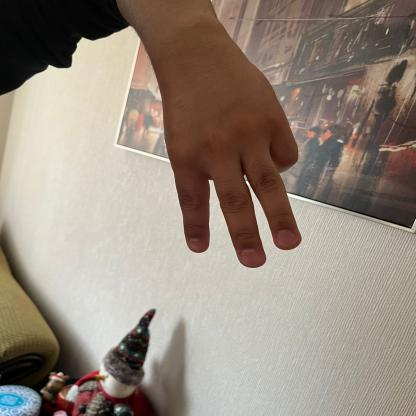M: (147, 46, 311, 272)
